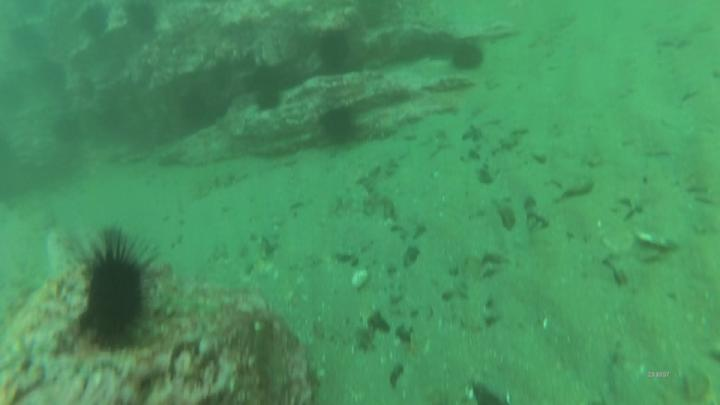echinus: (80, 247, 152, 353), (317, 106, 361, 145), (316, 31, 353, 70), (121, 3, 163, 36), (250, 74, 284, 112), (77, 5, 115, 37), (452, 40, 485, 72)
